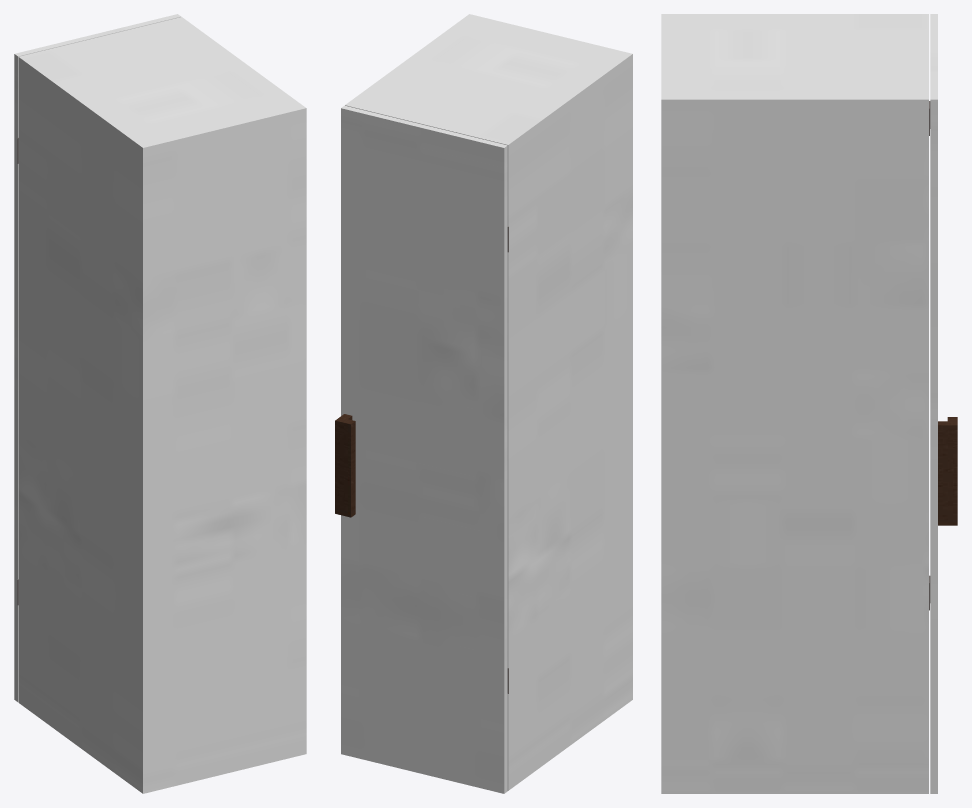
The model's file is Closet29.glb.
3 renders of one model, left to right at view 1: azimuth 30°, elevation 25°; view 2: azimuth 150°, elevation 25°; view 3: azimuth 270°, elevation 25°, orthographic. The views are drawn at different scales.
Visible parts, largest first — view 1: Closet29_model, Closet29Door; view 2: Closet29Door, Closet29_model; view 3: Closet29_model, Closet29Door.
Boxes of the visible parts, left/top/right/bottom form: Closet29_model: left=17, top=17, right=306, bottom=793; Closet29Door: left=14, top=14, right=181, bottom=702; Closet29Door: left=335, top=105, right=508, bottom=793; Closet29_model: left=345, top=14, right=632, bottom=790; Closet29_model: left=661, top=14, right=930, bottom=793; Closet29Door: left=929, top=14, right=957, bottom=793.
Size of the model in its own units: 1.49 by 5.6 by 2.17.
Materials: 1 (1 with a texture image).
